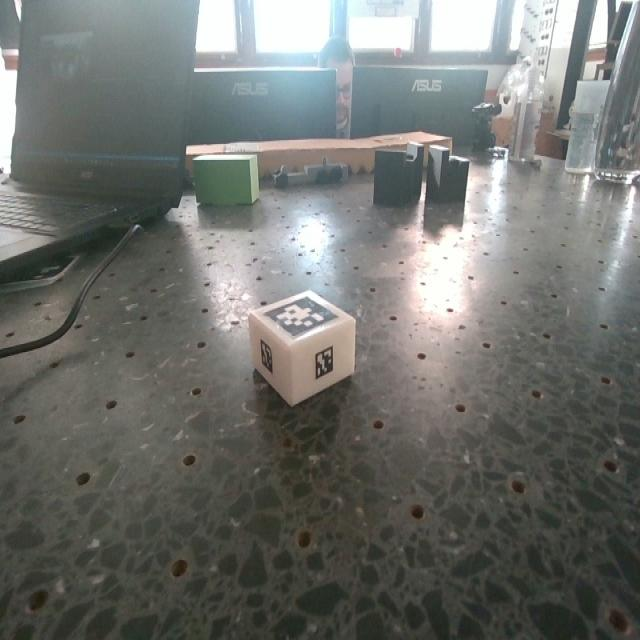Cube: (249, 285, 356, 403)
